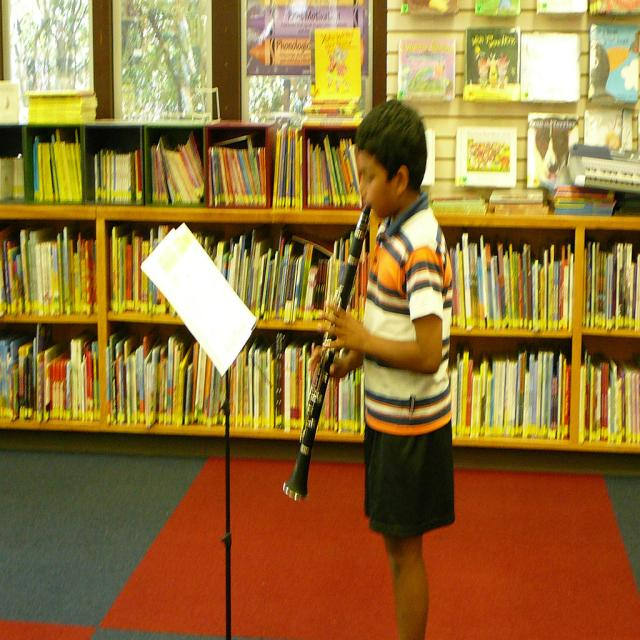clarinet: (285, 200, 368, 503)
